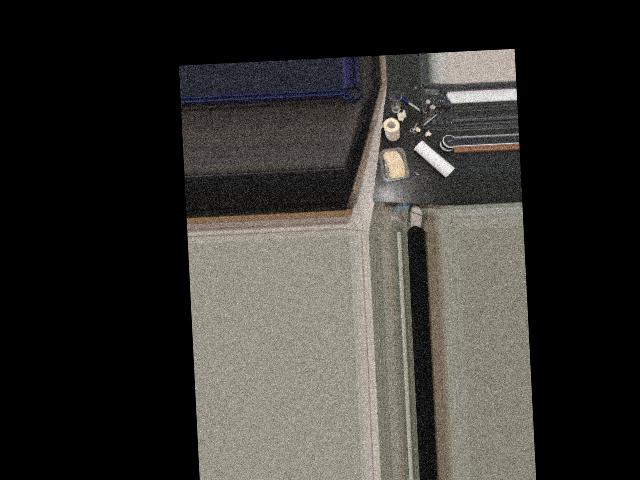cheese: (377, 145, 411, 185)
